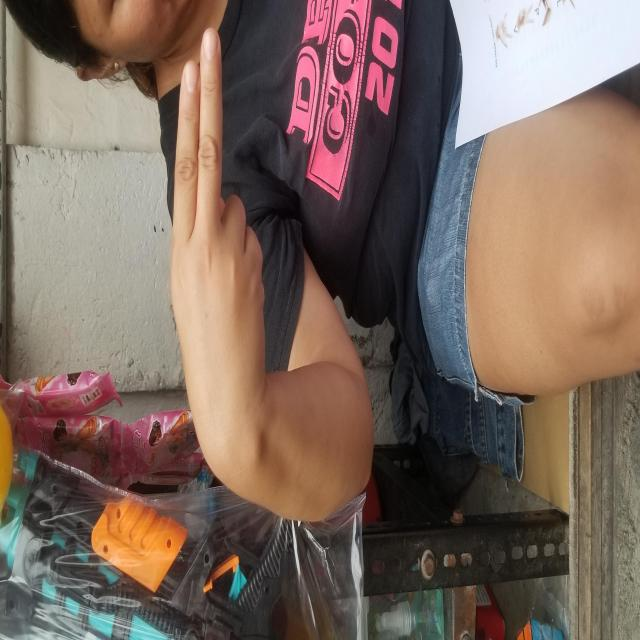H: (260, 170, 611, 266)
